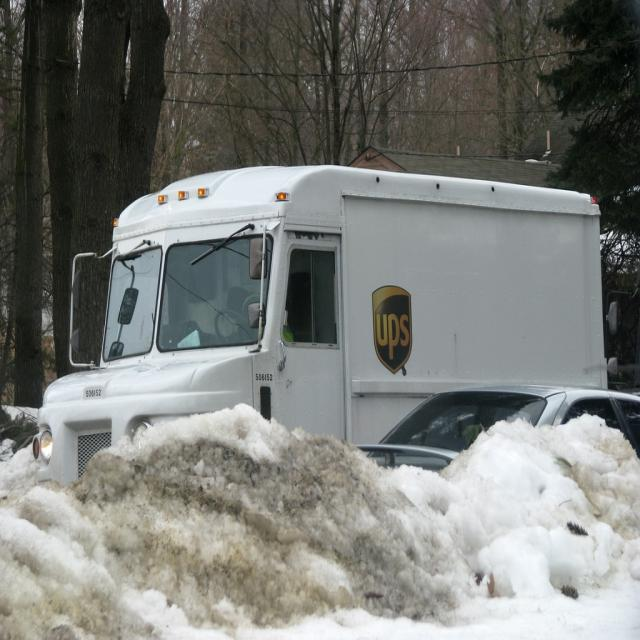ups: (372, 285, 416, 377)
